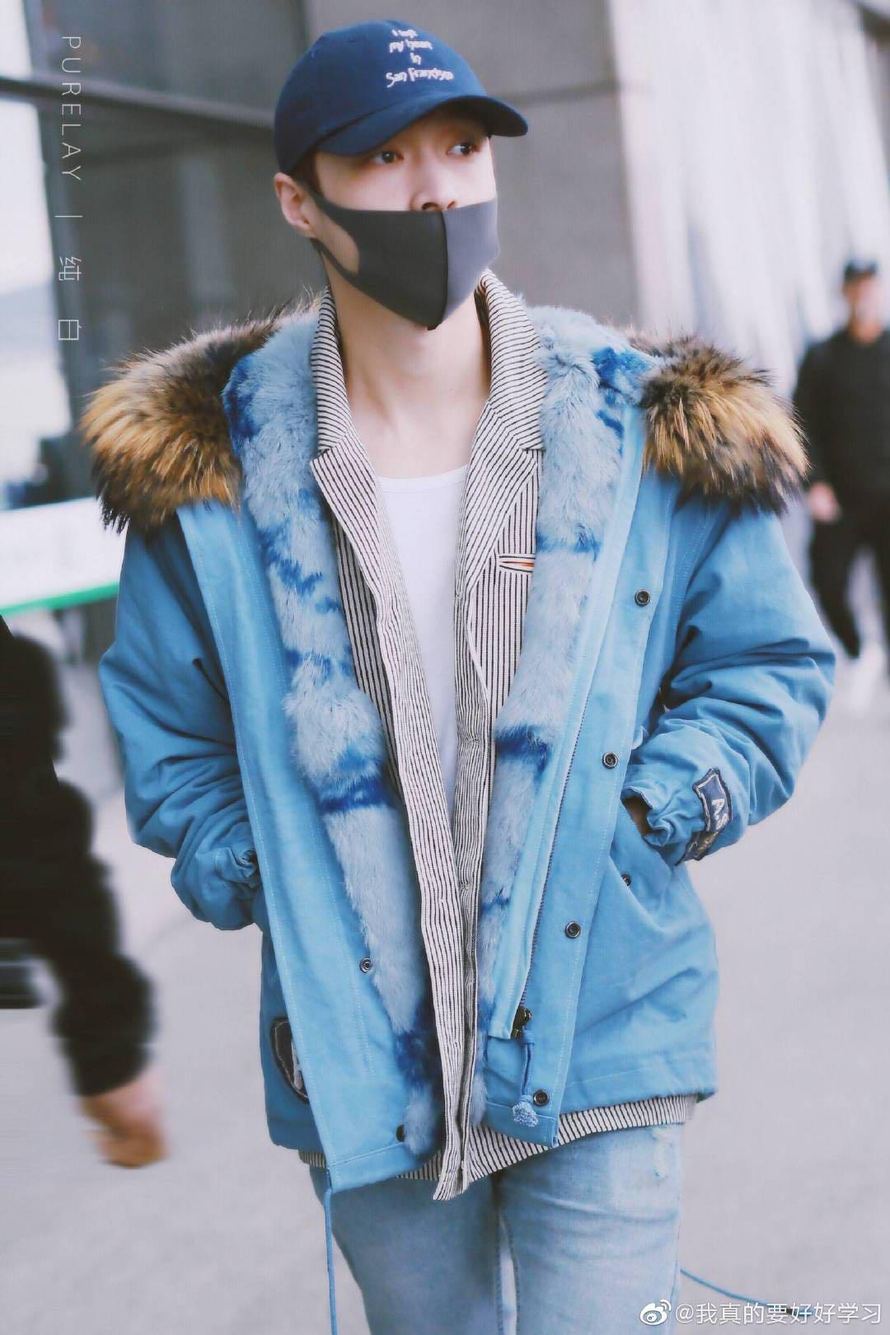WRONG: (328, 106, 502, 319)
